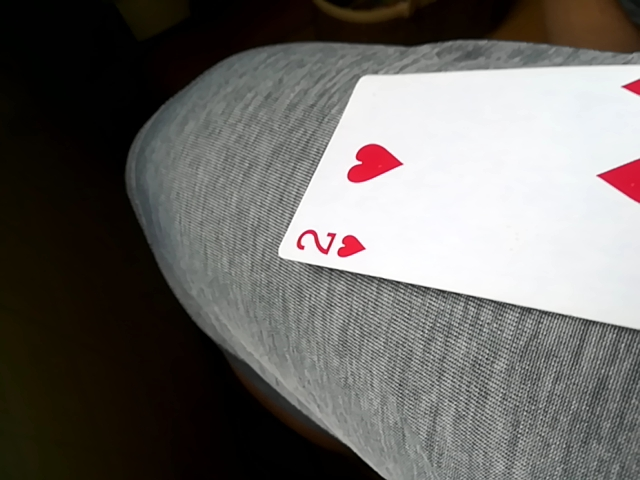hx 2: (276, 54, 640, 335)
